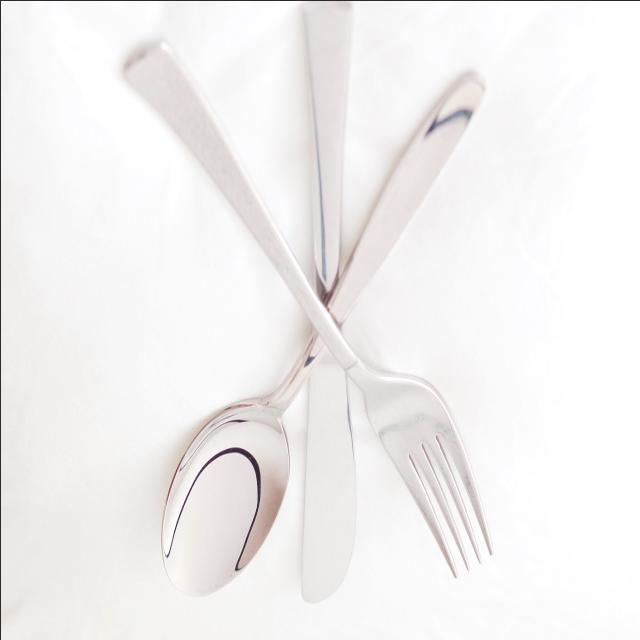Dry Waste: (59, 0, 526, 631)
